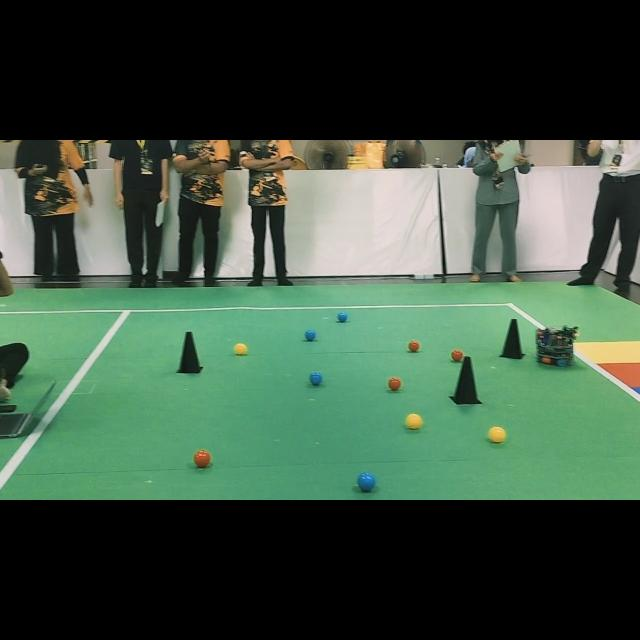ball: (358, 472, 375, 492), (194, 450, 211, 468), (489, 426, 506, 442), (405, 414, 422, 429), (388, 376, 401, 391), (234, 342, 248, 355), (451, 349, 464, 361), (408, 340, 421, 352), (310, 372, 322, 385), (305, 330, 316, 341), (338, 311, 348, 322)
goal: (574, 342, 640, 364), (600, 362, 640, 388)
